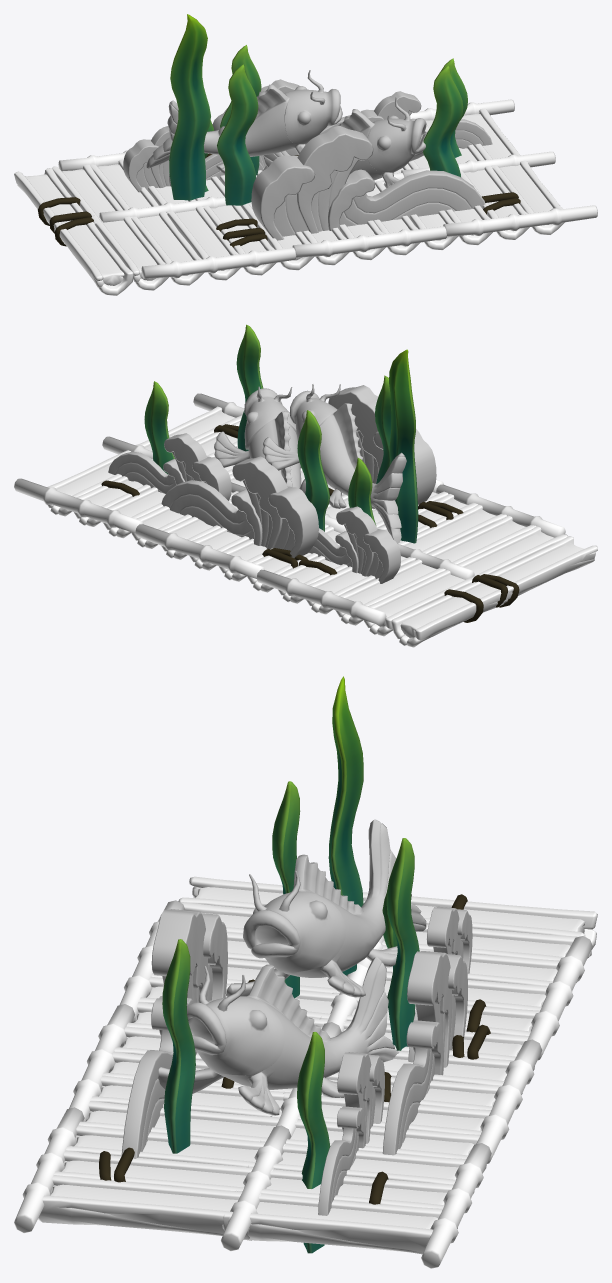
The model's file is SeaFloat_Sway.fbx.
3 views of the same model, one above another, from view 1: azimuth 30°, elevation 25°; view 2: azimuth 150°, elevation 25°; view 3: azimuth 270°, elevation 25° (orthographic). The views are drawn at different scales.
Parts seen in each view (by area): view 1: m_dlc13_SeaFloat_01 (×4), m_dlc13_bambo_frame_01 (2) (×7), m_dlc13_FishFloat_01 (×2), m_seaweedfloat_01, m_seaweedfloat_02, p_dlc13_log_stairs_01 (1), m_seaweedfloat_02 (2), p_dlc13_log_stairs_01 (3), p_dlc13_log_stairs_01 (7), p_dlc13_log_stairs_01 (5), p_dlc13_log_stairs_01 (25), p_dlc13_log_stairs_01 (2) (+20 smaller); view 2: m_dlc13_SeaFloat_01 (×4), m_dlc13_FishFloat_01 (×2), m_dlc13_bambo_frame_01 (2) (×7), m_seaweedfloat_01, p_dlc13_log_stairs_01, p_dlc13_log_stairs_01 (1), p_dlc13_log_stairs_01 (2), m_seaweedfloat_02 (4), p_dlc13_log_stairs_01 (3), p_dlc13_log_stairs_01 (7), p_dlc13_log_stairs_01 (4), p_dlc13_log_stairs_01 (5) (+18 smaller); view 3: m_dlc13_FishFloat_01 (×2), m_dlc13_SeaFloat_01 (×4), m_dlc13_bambo_frame_01 (2) (×9), p_dlc13_log_stairs_01 (25), p_dlc13_log_stairs_01 (24), m_seaweedfloat_01, m_seaweedfloat_02 (2), m_seaweedfloat_02 (4), p_dlc13_log_stairs_01 (23), p_dlc13_log_stairs_01, p_dlc13_log_stairs_01 (21), p_dlc13_log_stairs_01 (22) (+20 smaller).
Part boxes in pixels (box(x1,y1,x2,y2)): m_dlc13_SeaFloat_01 (×4): box(123, 79, 492, 240); m_dlc13_bambo_frame_01 (2) (×7): box(58, 99, 597, 278); m_dlc13_FishFloat_01 (×2): box(146, 70, 426, 187); m_seaweedfloat_01: box(169, 14, 210, 200); m_seaweedfloat_02: box(217, 64, 258, 205); p_dlc13_log_stairs_01 (1): box(53, 222, 133, 295); m_seaweedfloat_02 (2): box(423, 65, 463, 177); p_dlc13_log_stairs_01 (3): box(91, 215, 168, 290); p_dlc13_log_stairs_01 (7): box(167, 206, 240, 280); p_dlc13_log_stairs_01 (5): box(131, 211, 203, 285); p_dlc13_log_stairs_01 (25): box(492, 160, 564, 234); p_dlc13_log_stairs_01 (2): box(52, 164, 131, 223); m_dlc13_SeaFloat_01 (×4): box(108, 385, 436, 583); m_dlc13_FishFloat_01 (×2): box(214, 384, 406, 543); m_dlc13_bambo_frame_01 (2) (×7): box(14, 393, 565, 624); m_seaweedfloat_01: box(389, 349, 418, 543); p_dlc13_log_stairs_01: box(391, 581, 513, 647); p_dlc13_log_stairs_01 (1): box(489, 536, 597, 607); p_dlc13_log_stairs_01 (2): box(364, 564, 472, 636); m_seaweedfloat_02 (4): box(297, 410, 330, 531); p_dlc13_log_stairs_01 (3): box(457, 526, 567, 579); p_dlc13_log_stairs_01 (7): box(398, 504, 506, 559); p_dlc13_log_stairs_01 (4): box(335, 553, 454, 625); p_dlc13_log_stairs_01 (5): box(427, 515, 536, 570); m_dlc13_FishFloat_01 (×2): box(158, 819, 426, 1115); m_dlc13_SeaFloat_01 (×4): box(121, 906, 472, 1215); m_dlc13_bambo_frame_01 (2) (×9): box(14, 900, 592, 1268); p_dlc13_log_stairs_01 (25): box(38, 1175, 260, 1240); p_dlc13_log_stairs_01 (24): box(222, 1191, 442, 1254); m_seaweedfloat_01: box(328, 676, 363, 975); m_seaweedfloat_02 (2): box(162, 939, 195, 1153); m_seaweedfloat_02 (4): box(386, 838, 419, 1050); p_dlc13_log_stairs_01 (23): box(54, 1150, 272, 1191); p_dlc13_log_stairs_01: box(411, 896, 597, 958); p_dlc13_log_stairs_01 (21): box(66, 1125, 285, 1169); p_dlc13_log_stairs_01 (22): box(236, 1166, 457, 1228).
Bounding box in the file's own units: 11.03 × 5.08 × 7.18.
